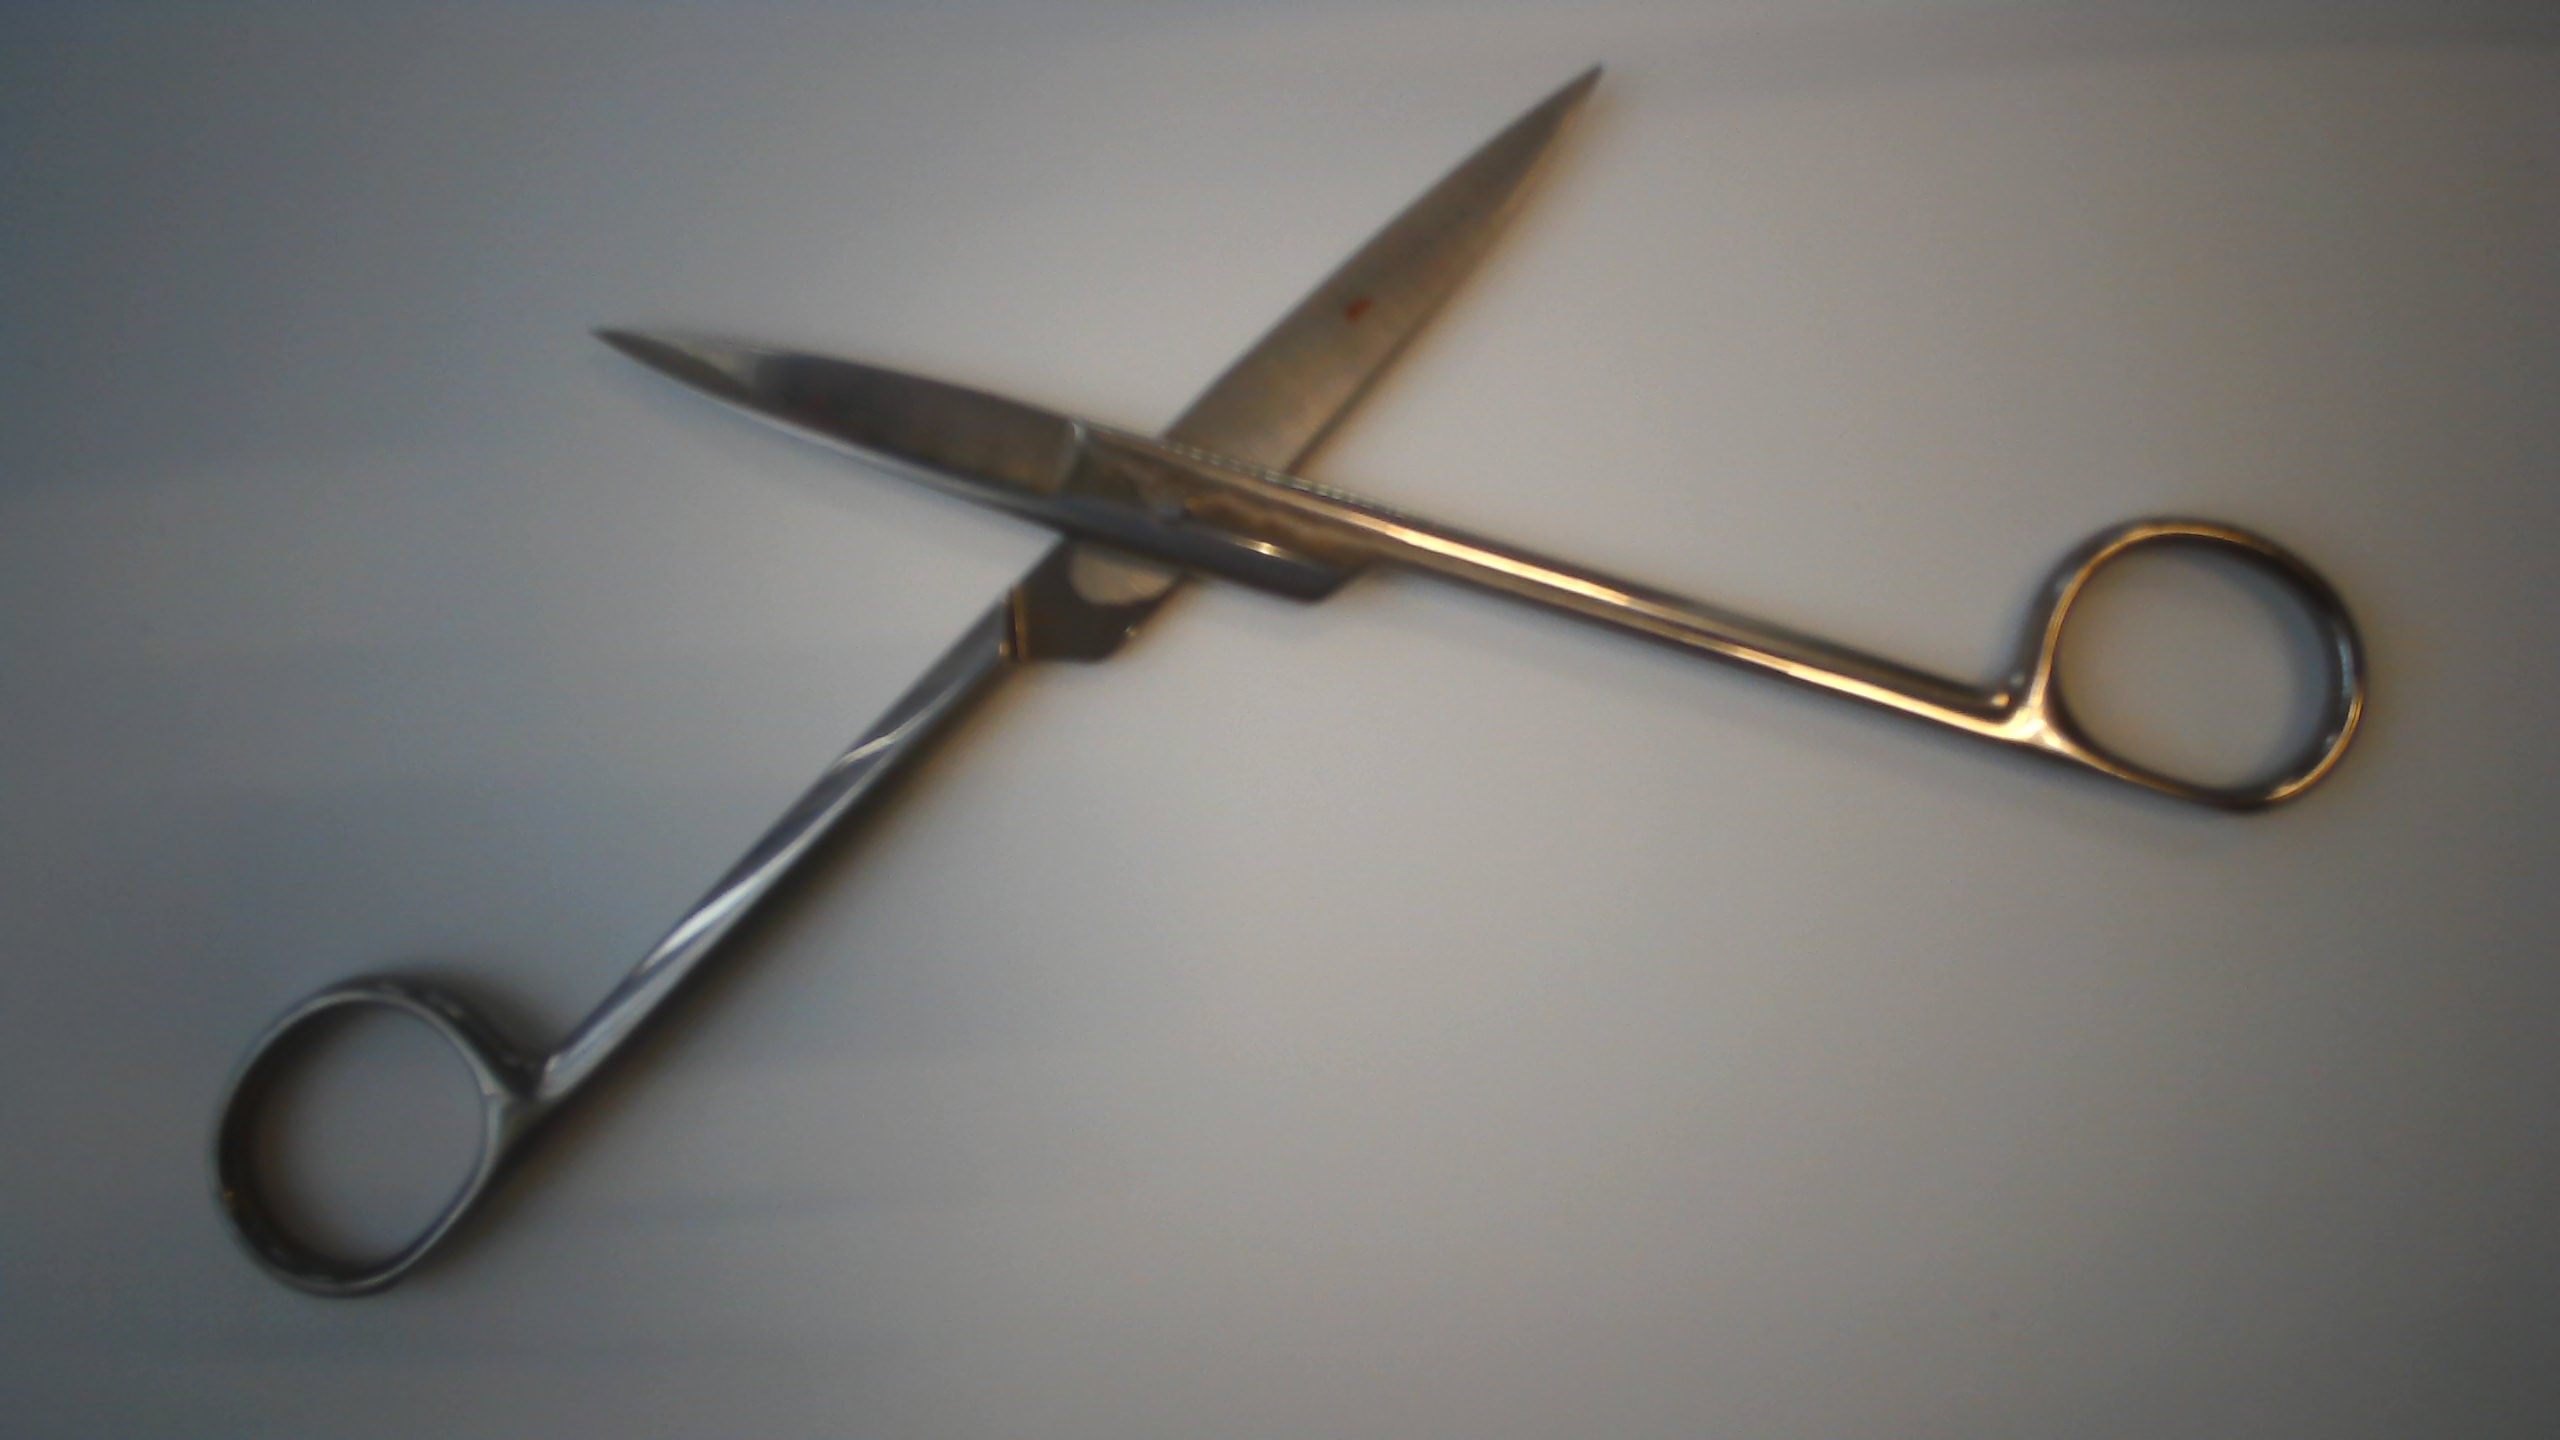Stain: (1338, 292, 1389, 324)
